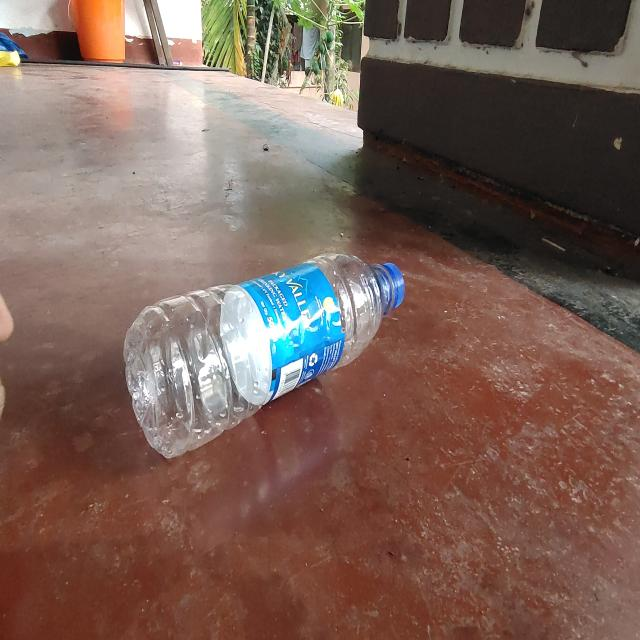plastic: (116, 247, 407, 463)
